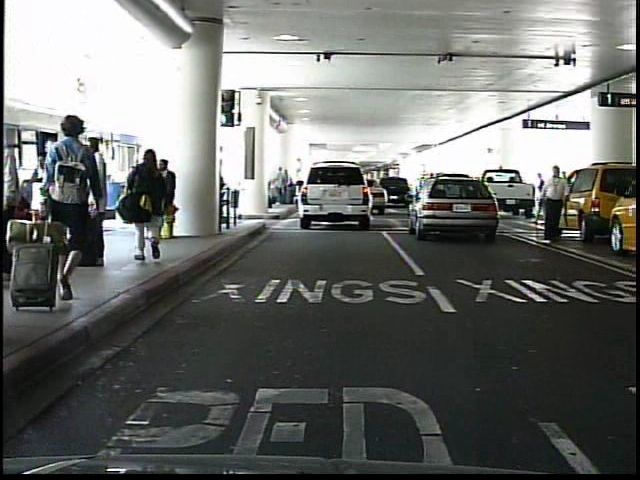person: (49, 110, 105, 315), (129, 142, 176, 271), (3, 126, 37, 272), (81, 135, 113, 266), (542, 165, 572, 249), (154, 157, 179, 239), (536, 172, 549, 218), (547, 170, 557, 209)
